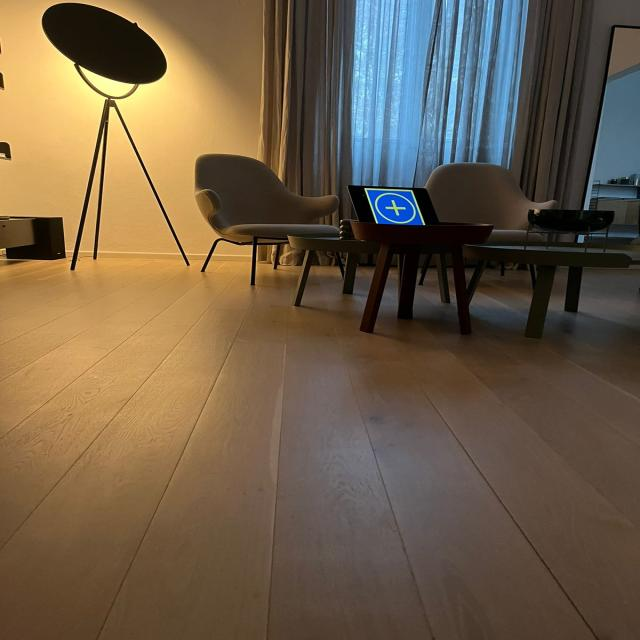Marker: (364, 187, 426, 225)
